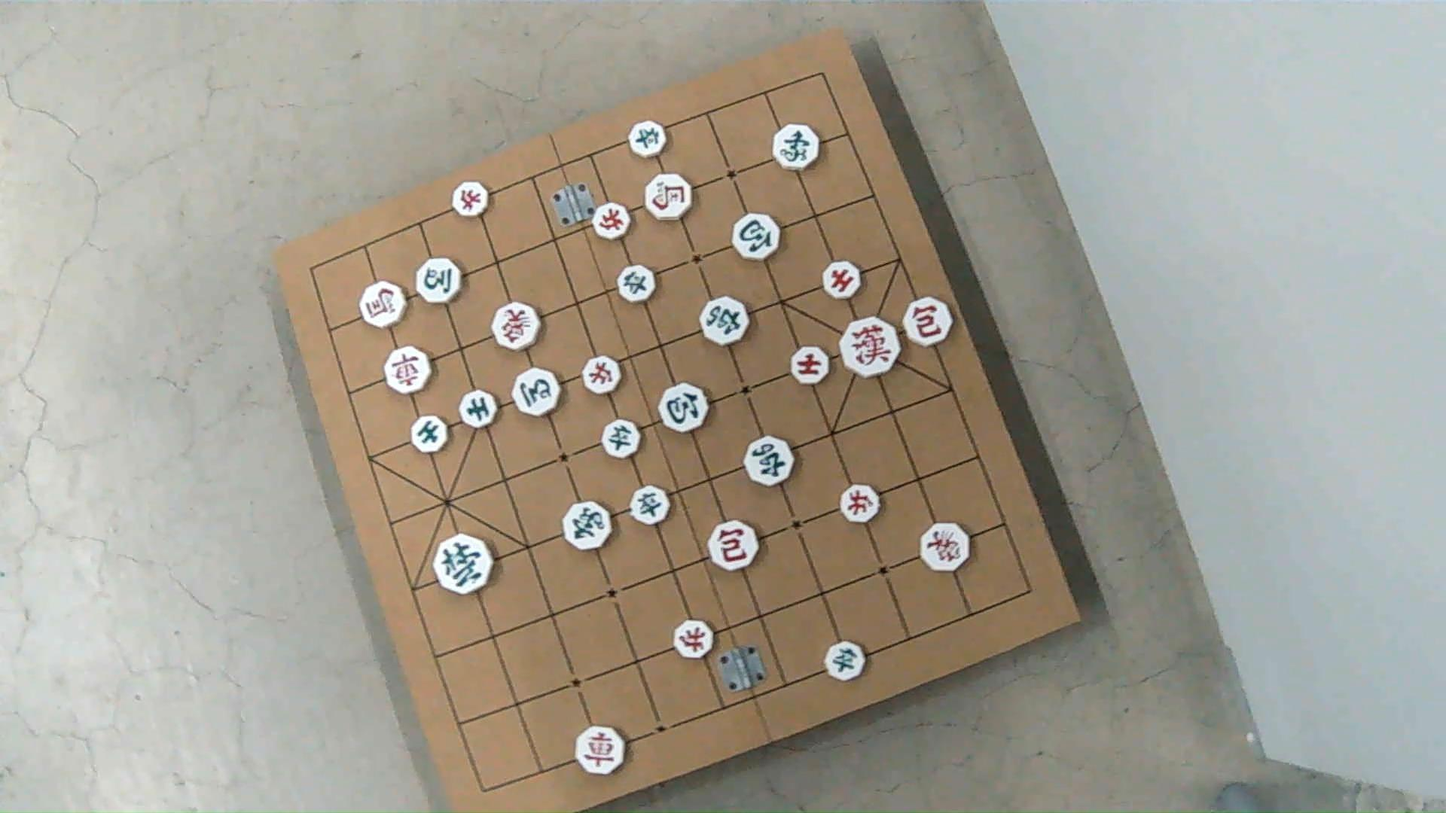cha_green: (744, 437, 793, 487), (700, 298, 749, 346)
cha_red: (577, 726, 628, 775), (385, 346, 432, 394)
jol_green: (822, 638, 865, 680), (630, 483, 670, 522), (628, 120, 667, 159), (604, 420, 642, 458), (619, 264, 658, 301)
jol_red: (838, 486, 880, 525), (671, 620, 712, 659), (581, 355, 621, 394), (594, 202, 633, 239), (453, 181, 490, 217)
ma_green: (512, 370, 560, 418), (414, 257, 460, 302)
ma_red: (645, 175, 693, 221), (362, 284, 408, 329)
po_green: (657, 382, 707, 432), (731, 215, 780, 262)
po_red: (902, 297, 955, 346), (709, 520, 759, 571)
sa_green: (408, 417, 447, 455), (462, 389, 498, 428)
sa_red: (825, 260, 865, 299), (792, 346, 831, 384)
sang_green: (565, 501, 614, 549), (773, 123, 820, 170)
sang_red: (922, 522, 972, 571), (493, 303, 542, 352)
wang_green: (436, 536, 495, 595)
wang_red: (840, 315, 901, 376)
